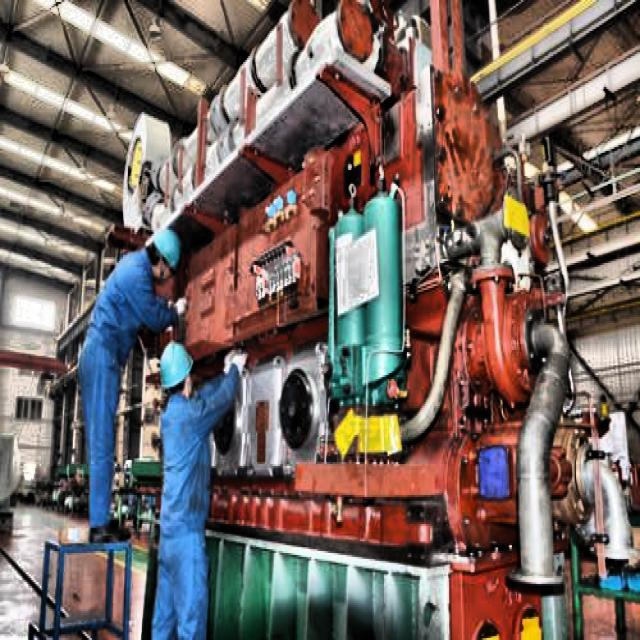helmet: (145, 224, 184, 286), (159, 340, 192, 408)
